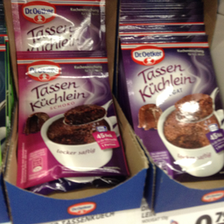cake: (13, 50, 128, 188), (120, 40, 224, 188)
